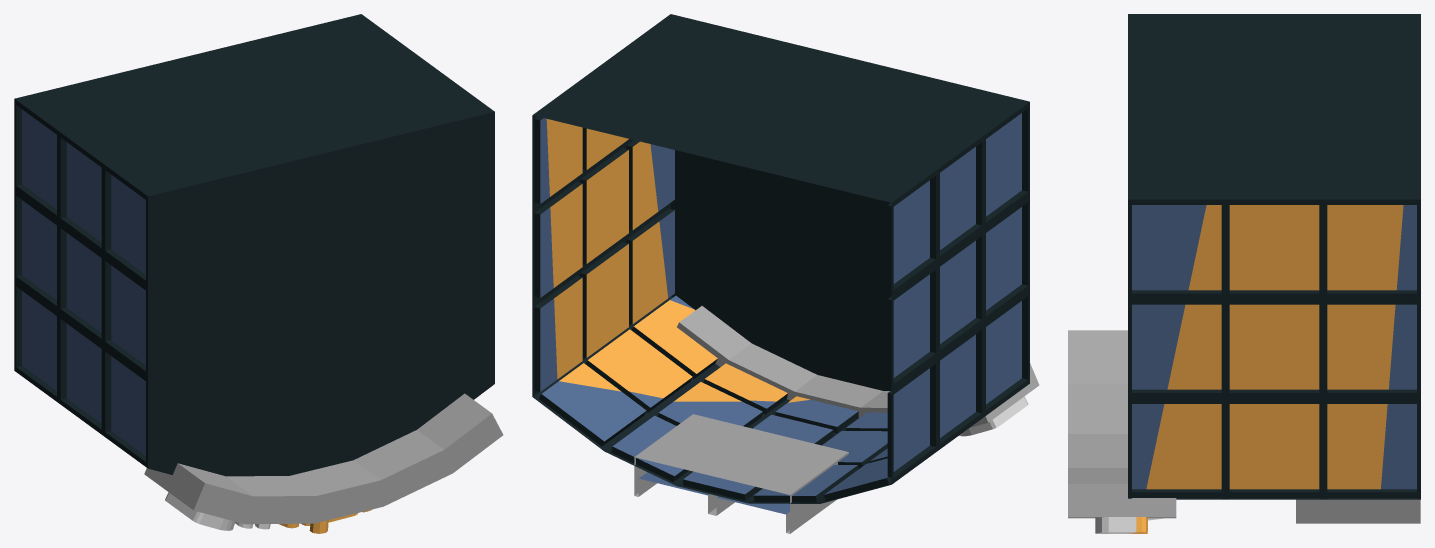
3 renders of one model, left to right at view 1: azimuth 30°, elevation 25°; view 2: azimuth 150°, elevation 25°; view 3: azimuth 270°, elevation 25°, orthographic. The views are drawn at different scales.
Parts seen in each view (by area): view 1: 132227FF, 4F6A94FF, E7E7E7FF, FFFFFFFF; view 2: 132227FF, 4F6A94FF, FFB249FF, E7E7E7FF, FFFFFFFF; view 3: 132227FF, FFB249FF, 4F6A94FF, E7E7E7FF, FFFFFFFF.
Part boxes in pixels (x1,y1,x2,y2): 132227FF: (14,14,494,476); 4F6A94FF: (22,109,145,455); E7E7E7FF: (144,393,503,524); FFFFFFFF: (165,492,270,530); 132227FF: (532,14,1029,503); 4F6A94FF: (540,113,1021,514); FFB249FF: (546,119,809,402); E7E7E7FF: (634,306,1039,533); FFFFFFFF: (959,396,1028,436); 132227FF: (1128,14,1420,499); FFB249FF: (1127,205,1403,533); 4F6A94FF: (1132,205,1416,489); E7E7E7FF: (1068,330,1420,523); FFFFFFFF: (1095,517,1163,533).
Bounding box in the file's own units: 6 × 5.89 × 4.82.
